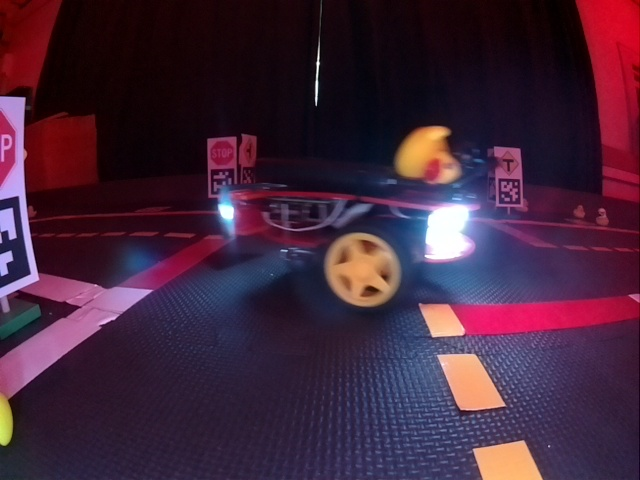Duckie: (393, 124, 455, 184), (596, 210, 608, 224), (573, 207, 585, 219)
Duckiebot: (221, 173, 482, 307)
Intersection sign: (498, 150, 520, 176)
QR code: (0, 197, 31, 289), (209, 168, 234, 195), (499, 177, 521, 205)
Stop sign: (1, 101, 19, 188), (208, 138, 234, 167)
